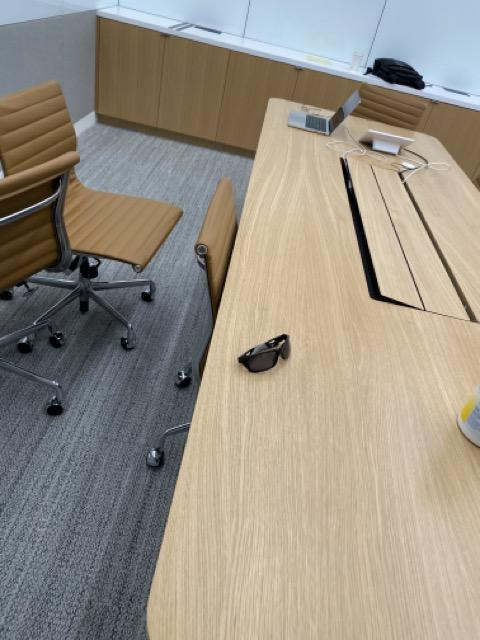Sunglasses: (237, 331, 292, 373)
